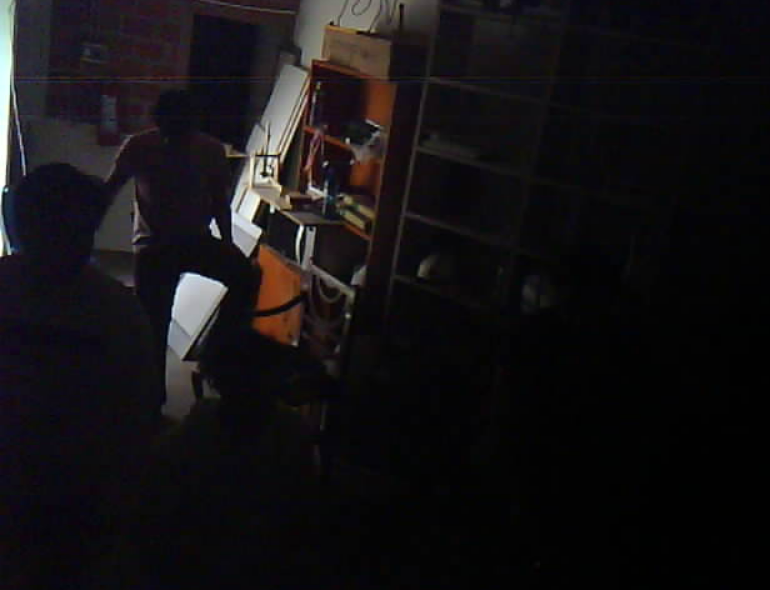person: (4, 143, 183, 559), (111, 73, 279, 435)
